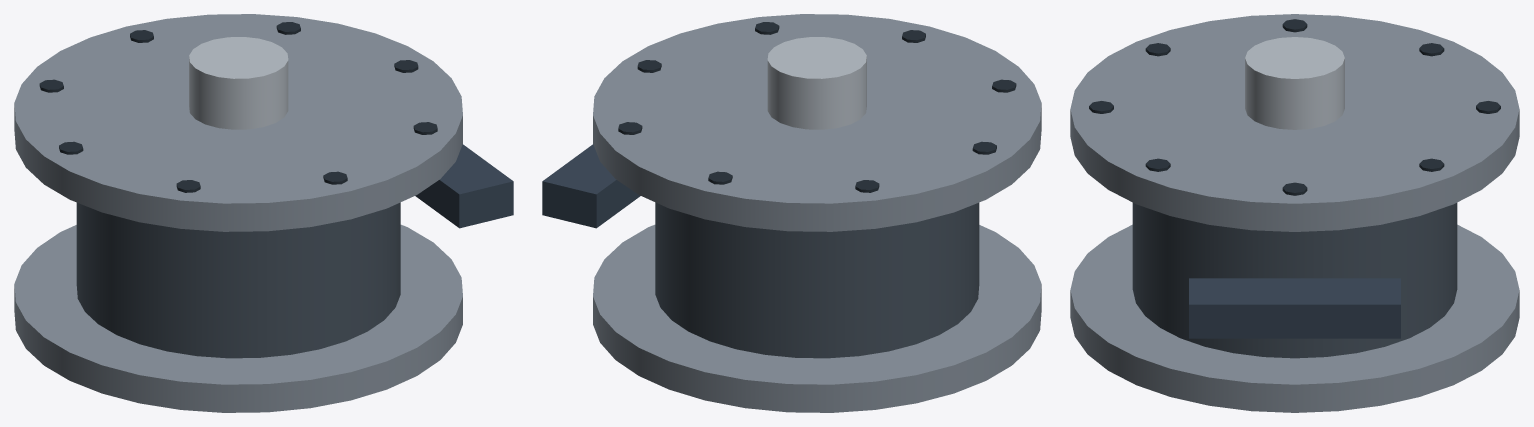
File: backstop.glb
3 renders of one model, left to right at view 1: azimuth 30°, elevation 25°; view 2: azimuth 150°, elevation 25°; view 3: azimuth 270°, elevation 25°, orthographic.
Size of the model in its own units: 0.77 by 0.55 by 0.72.
